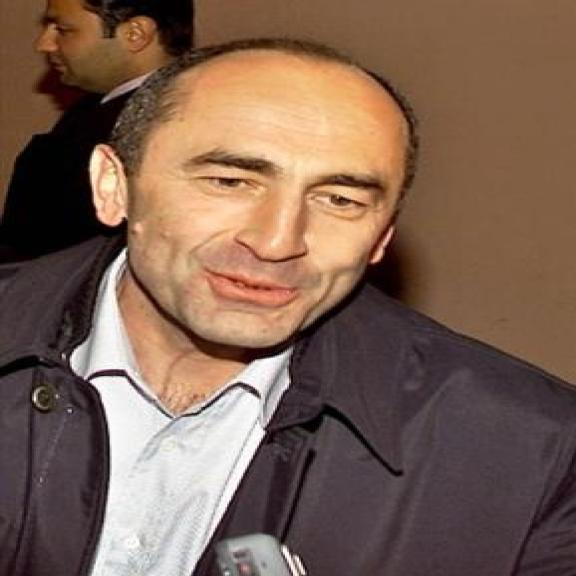face: (82, 78, 405, 359), (32, 1, 156, 94)
